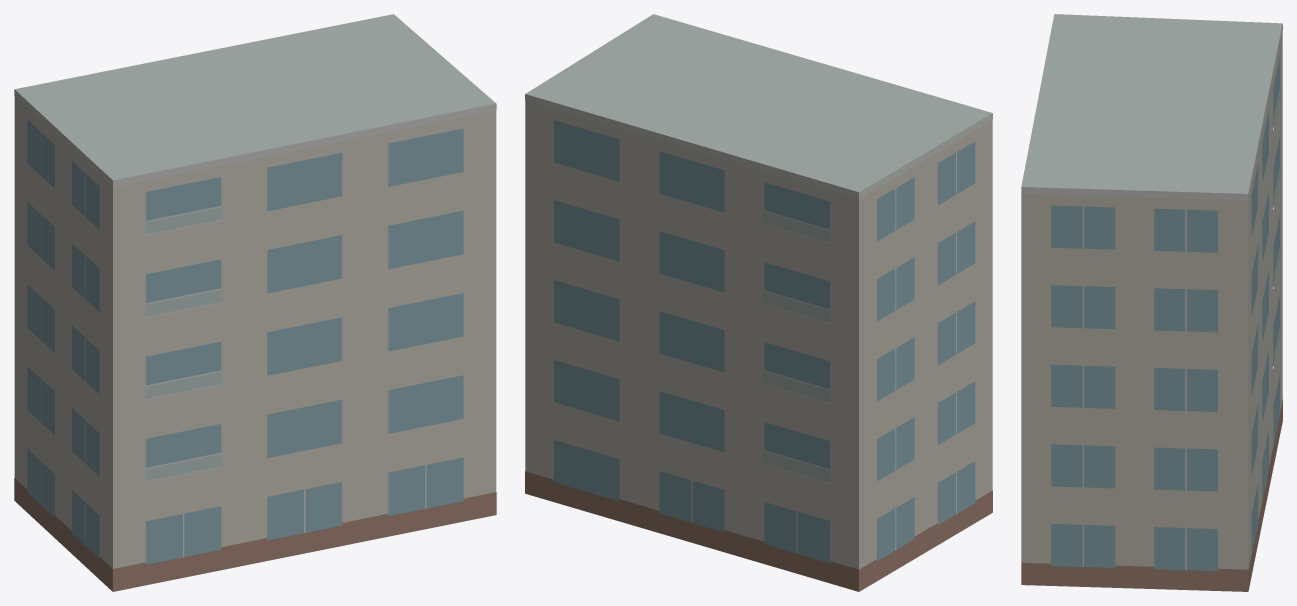
File: survey-upis-32750271.glb
The picture shows the model from 3 angles, left to right: view 1: azimuth 30°, elevation 25°; view 2: azimuth 150°, elevation 25°; view 3: azimuth 270°, elevation 25°; orthographic projection. The views are drawn at different scales.
Visible parts, largest first — view 1: survey-upis-32750271.tmp; view 2: survey-upis-32750271.tmp; view 3: survey-upis-32750271.tmp.
Part boxes in pixels (x1,y1,x2,y2): survey-upis-32750271.tmp: [14, 14, 496, 591]; survey-upis-32750271.tmp: [525, 14, 992, 591]; survey-upis-32750271.tmp: [1021, 14, 1282, 591].
Size of the model in its own units: 13.97 by 14.4 by 8.58.
